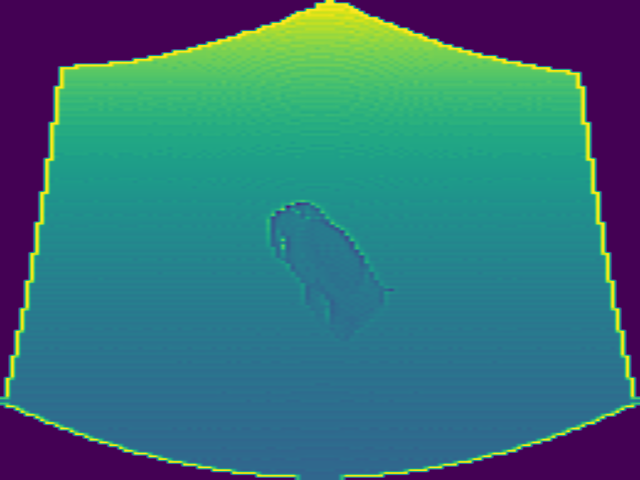car_0027: (269, 200, 386, 341)
